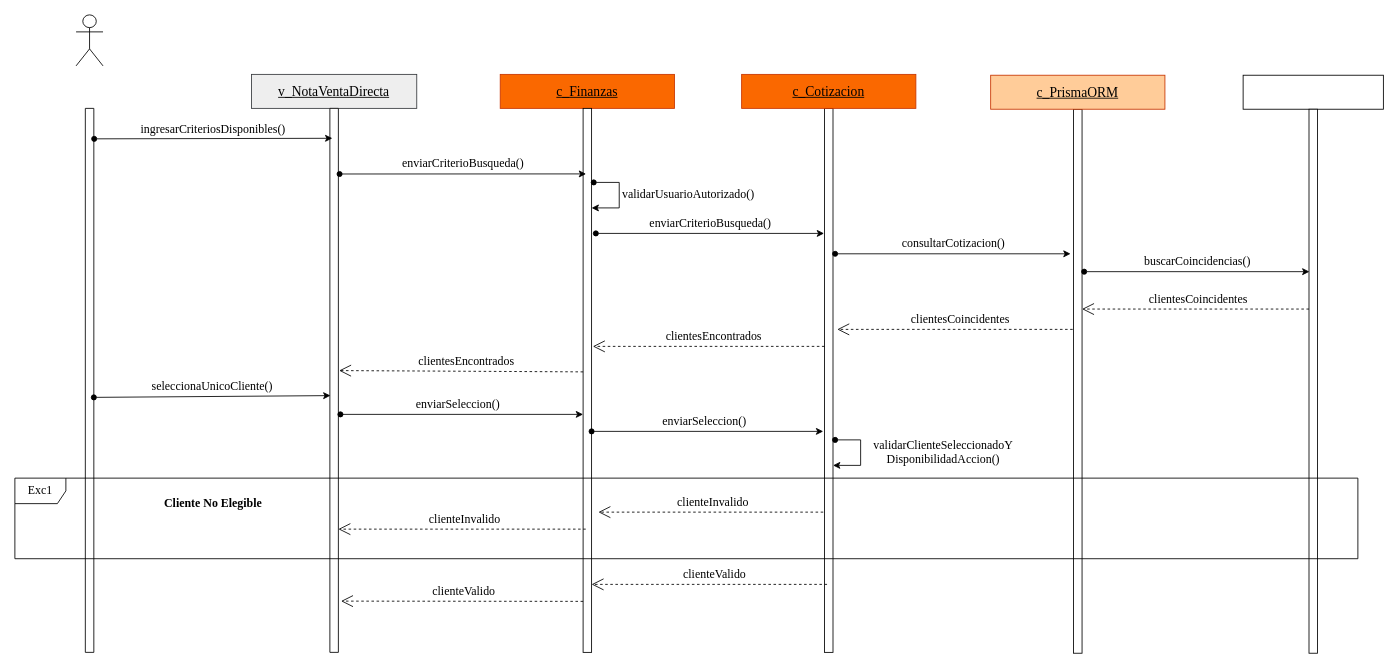
Image size: 1398x668. Some labels were removed from this diagram. The box of each missing label's shape, as (x1, y1, x2, y2) in pixels:
cliente: (1242, 74, 1383, 109)
Usuario Autorizado Gerencia o Secretaria: (75, 14, 103, 66)
